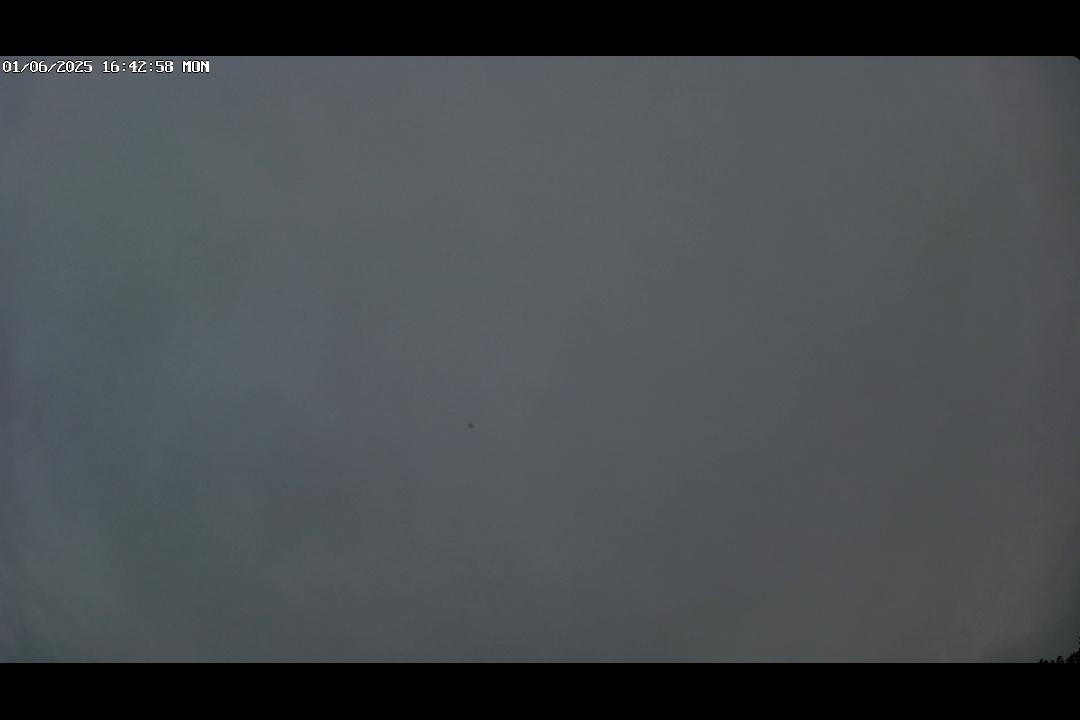Plane: (460, 413, 485, 436)
